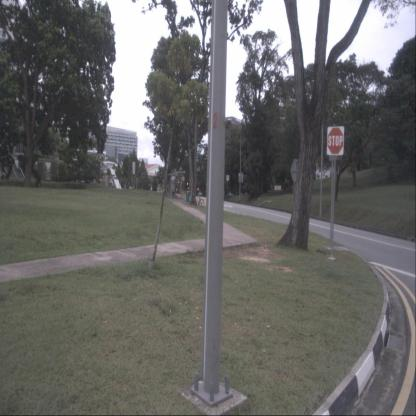vehicle-bicycle: (190, 191, 204, 208)
